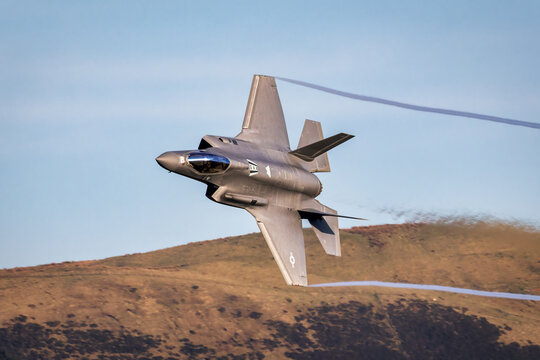F35: (151, 70, 373, 292)
